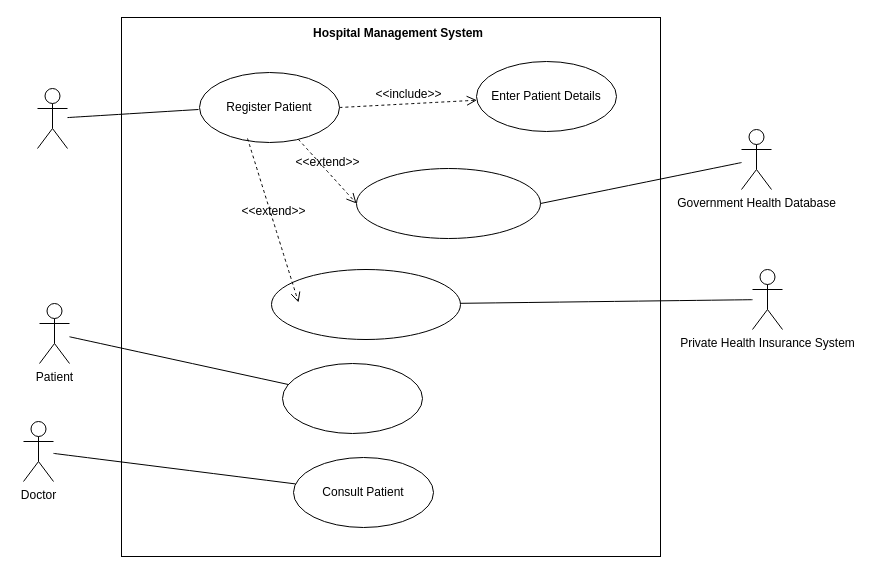
Some shapes in this 872 by 574 pixel diagram are drawn without their labels. The shapes that lost their labels are listed below. From the top down, each one's centre as x and y in pixels, then its label:
[52,118]: Administrator
[448,203]: Verify Public Health Insurance
[365,304]: Verify Private Health Insurance
[352,398]: Consult Doctor
